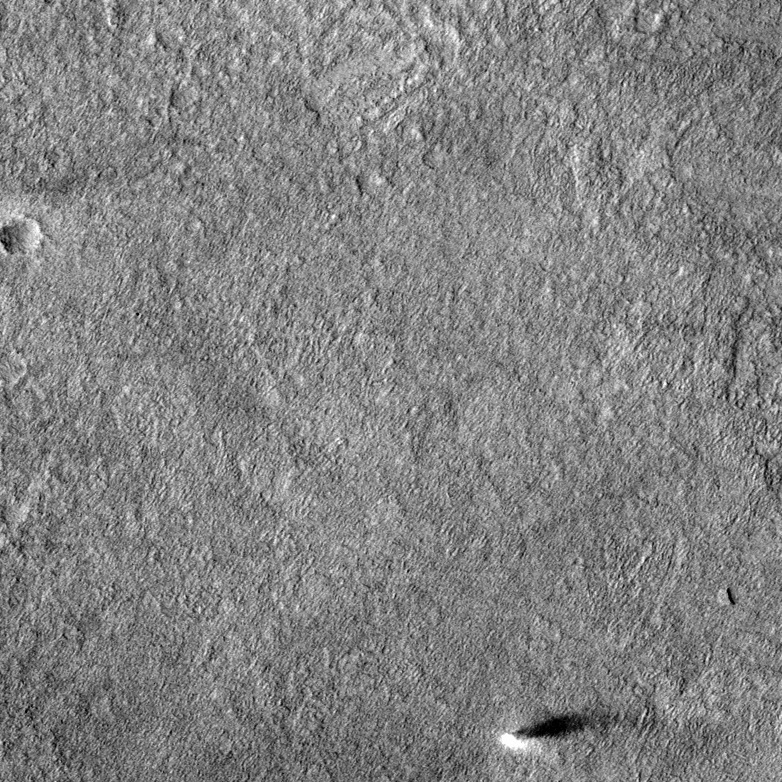dust_devil: (494, 708, 607, 757)
